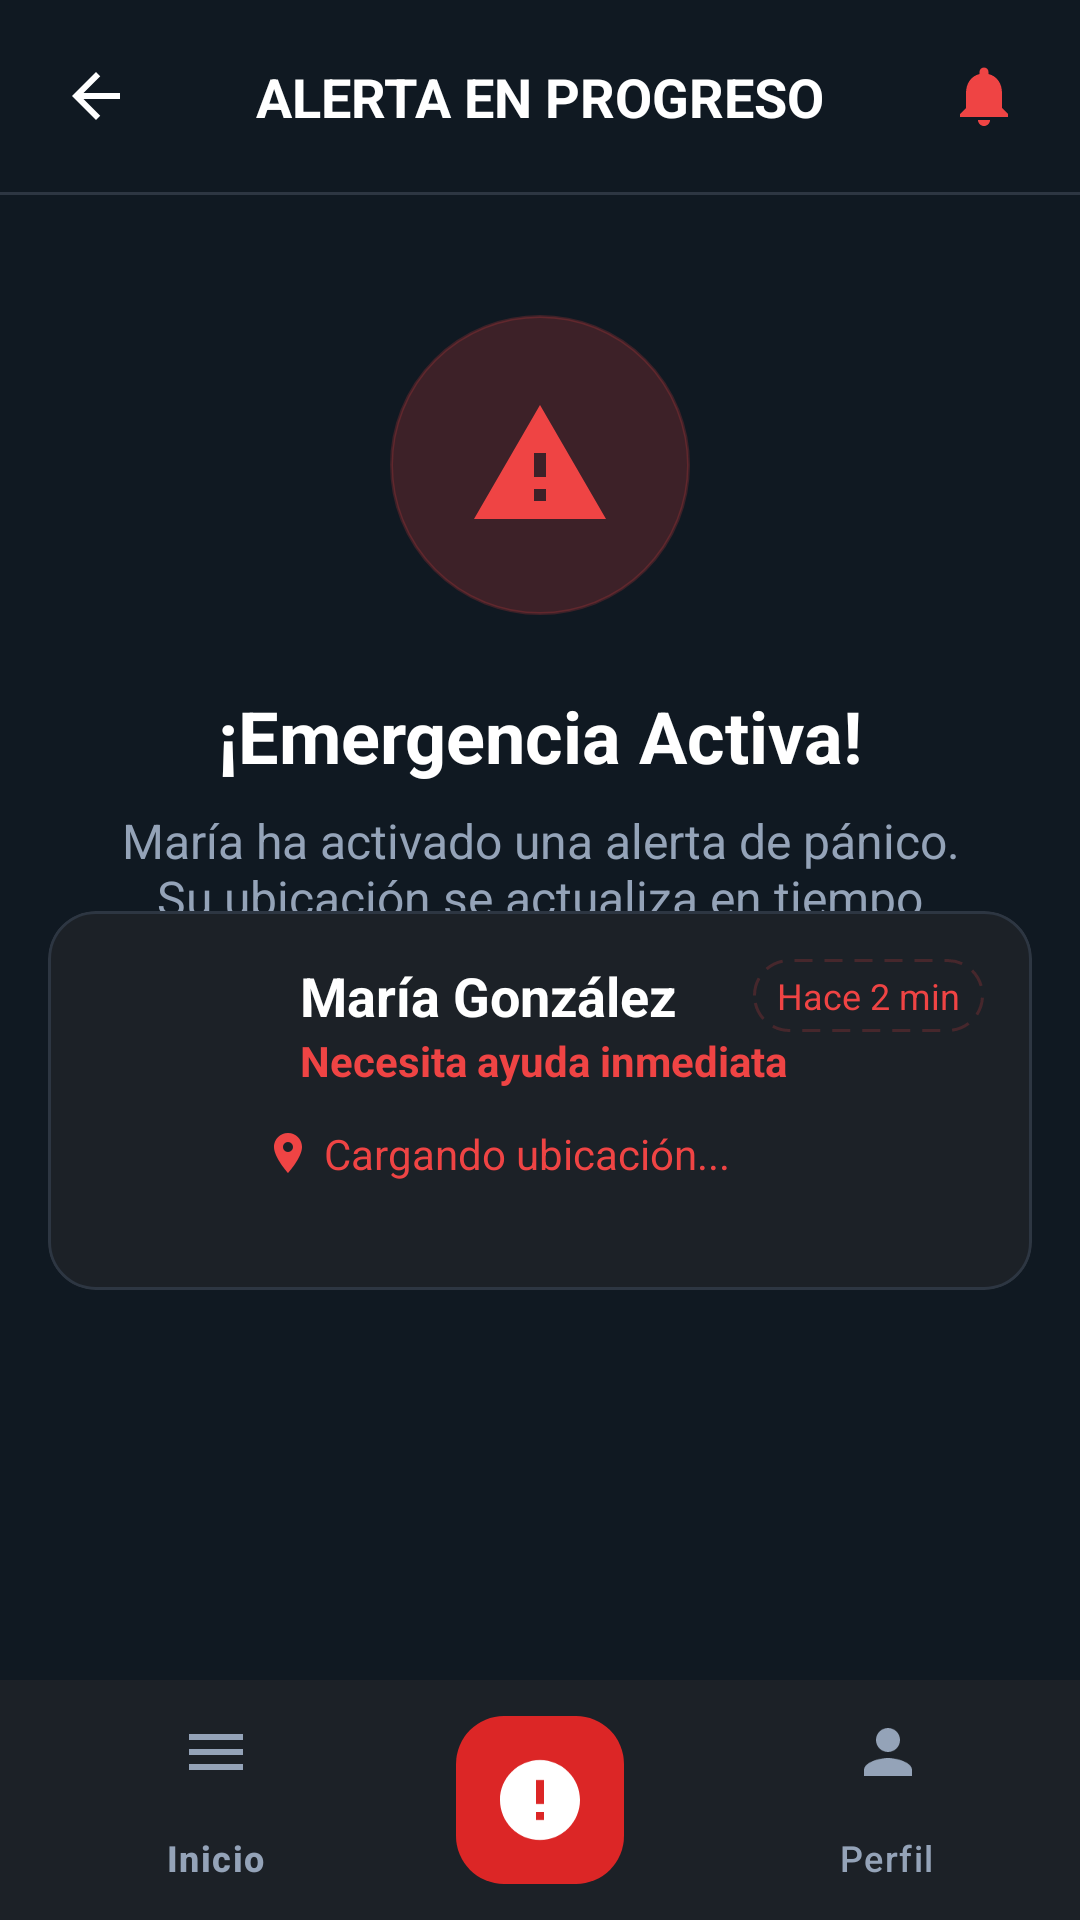

Icon click points for this 1080x1920 phone screenshot, format (x,y):
arrow back: (96,96)
location on: (288,1153)
notifications: (984,96)
SOS Alert: (540,1818)
warning: (540,462)
